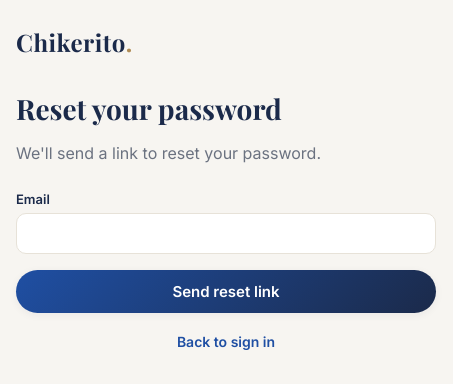
Test: ForgotPassword › shows the dev-mode reset link when the backend returns one
In the field: (226, 234) x1=16 y1=213 x2=436 y2=254, type "ada@chikerito.test"
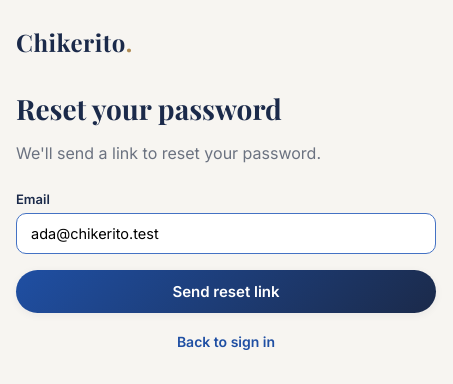
Click the button "Send reset link": (226, 292) x1=16 y1=270 x2=436 y2=313
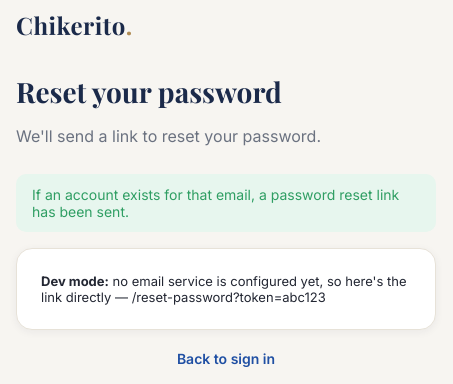
Result: the text "Dev mode:" is shown at x1=41 y1=273 x2=109 y2=289
